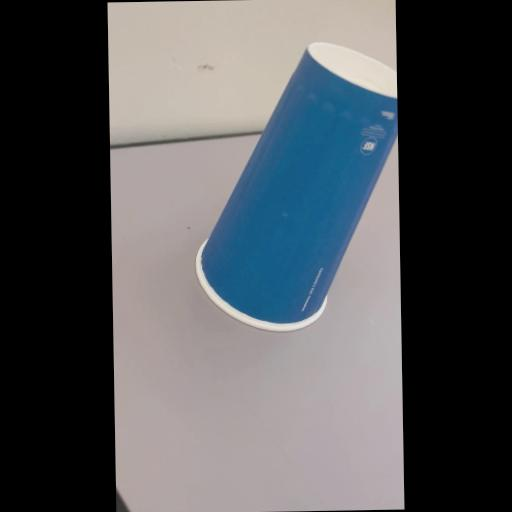lp_paper_cup: (190, 38, 402, 332)
